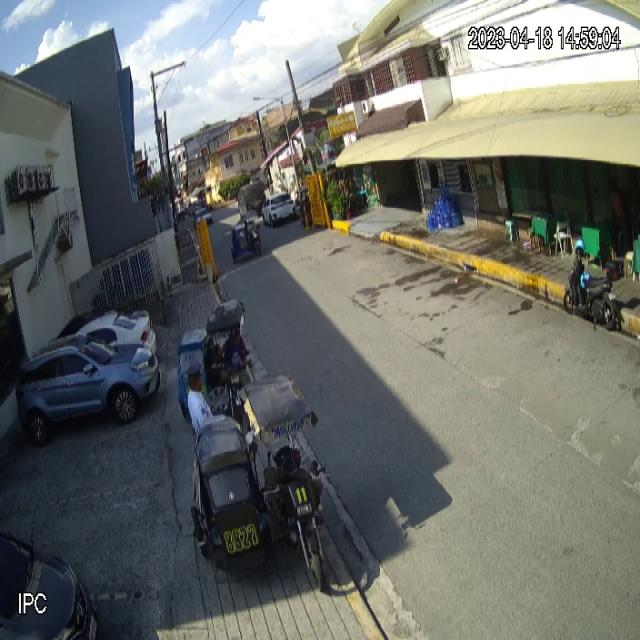Car: (16, 329, 162, 452)
Motorcycle: (563, 252, 626, 334)
Tricycle: (188, 370, 328, 593), (176, 295, 251, 428)
